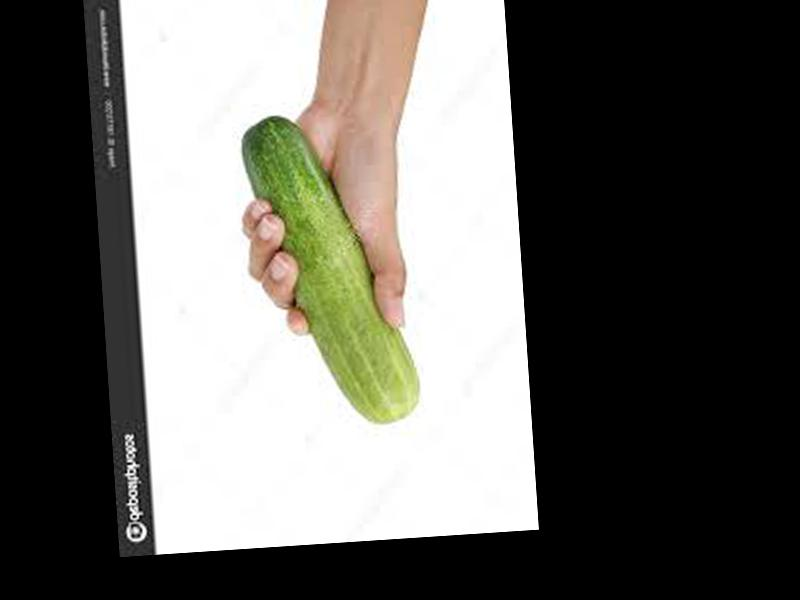Cucumber: (241, 107, 423, 430)
